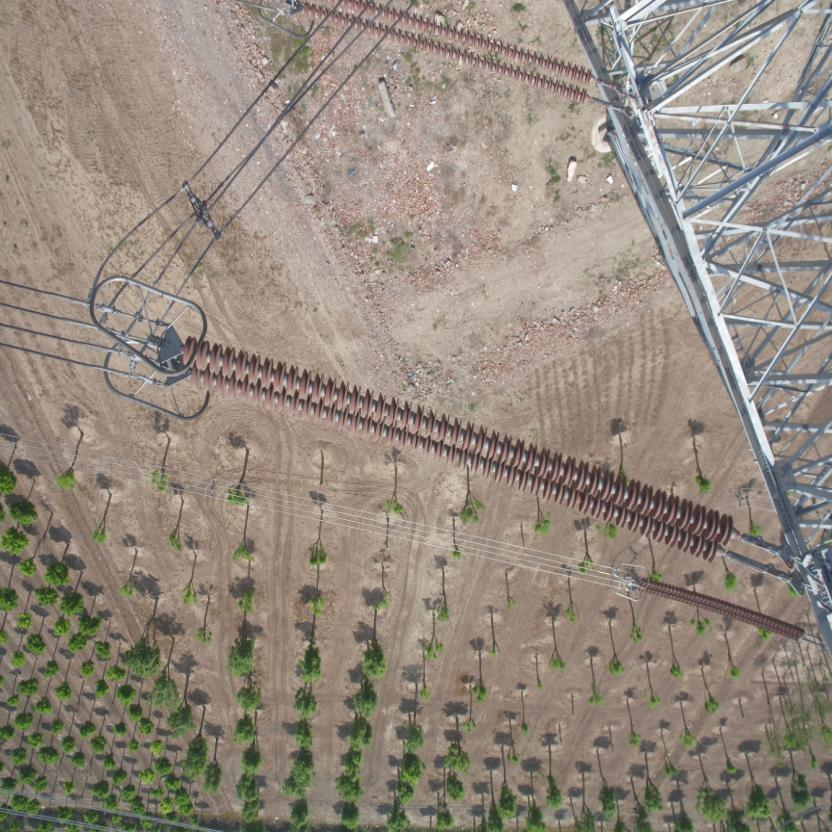insulator: (175, 332, 757, 570), (291, 1, 608, 109), (637, 578, 812, 646)
